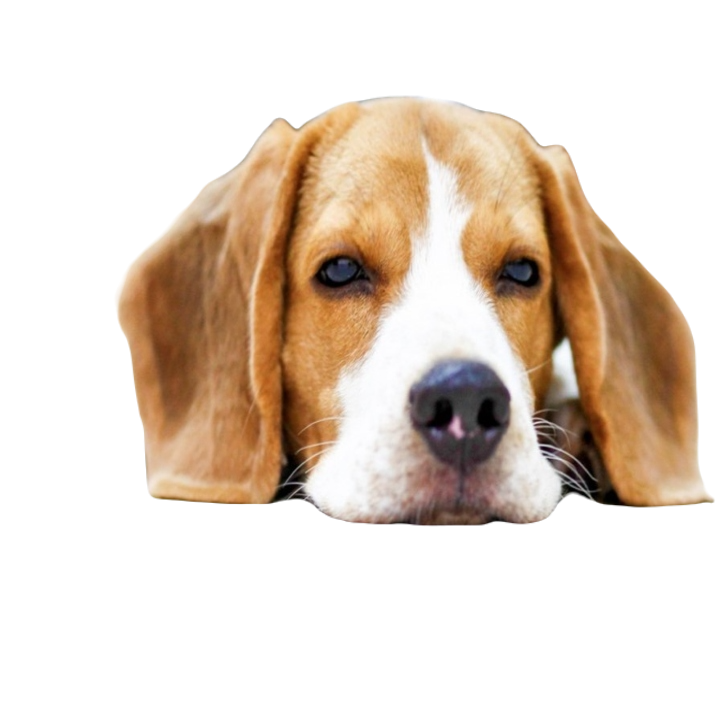Dog: (74, 96, 717, 532)
